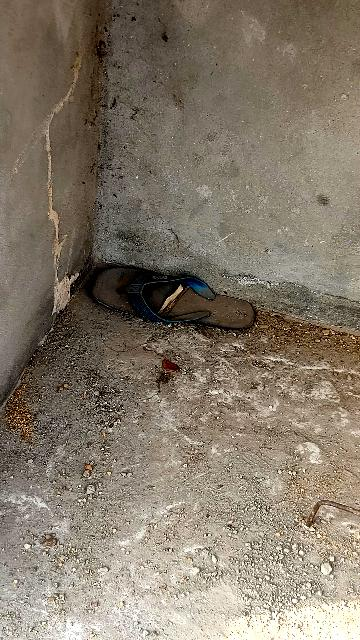sandal: (93, 262, 264, 346)
